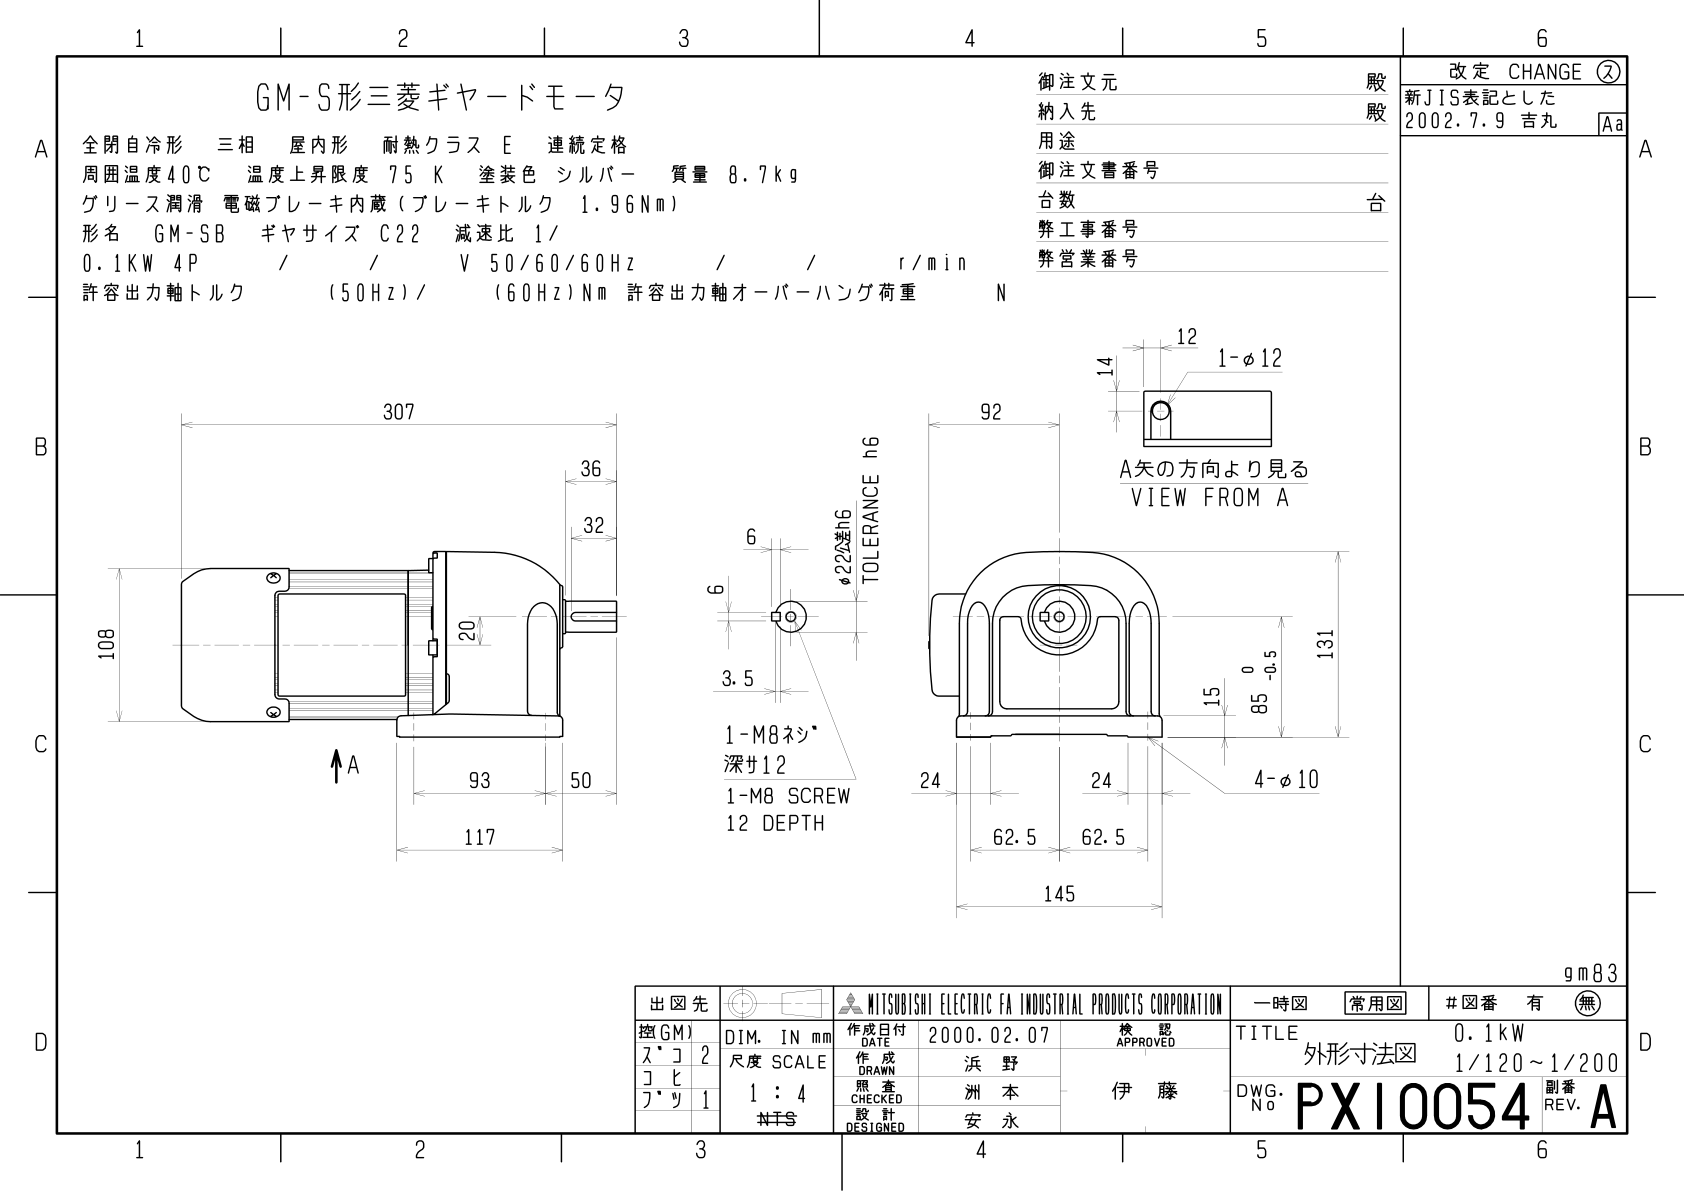GM_S_屋内＿三相_脚: (75, 302, 1377, 941)
